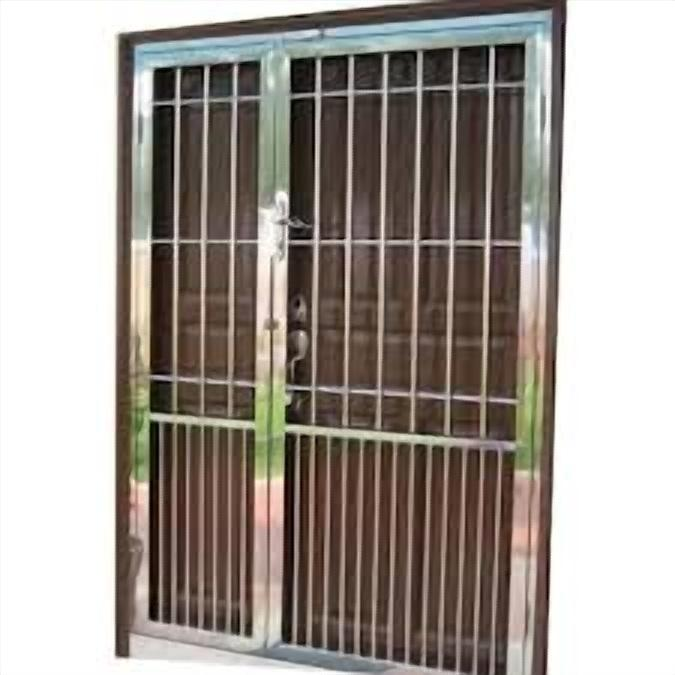Gate: (115, 0, 562, 675)
